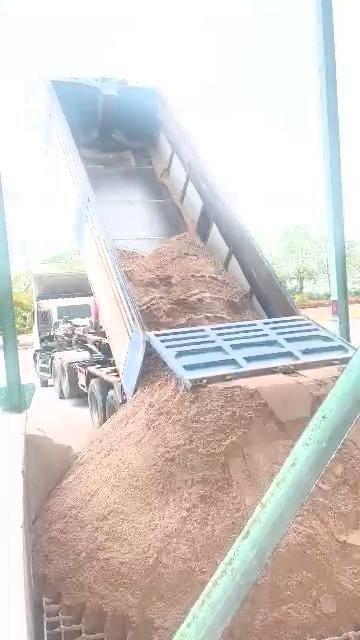sand: (35, 367, 332, 639), (226, 433, 360, 639), (120, 233, 258, 329), (25, 418, 74, 521)
